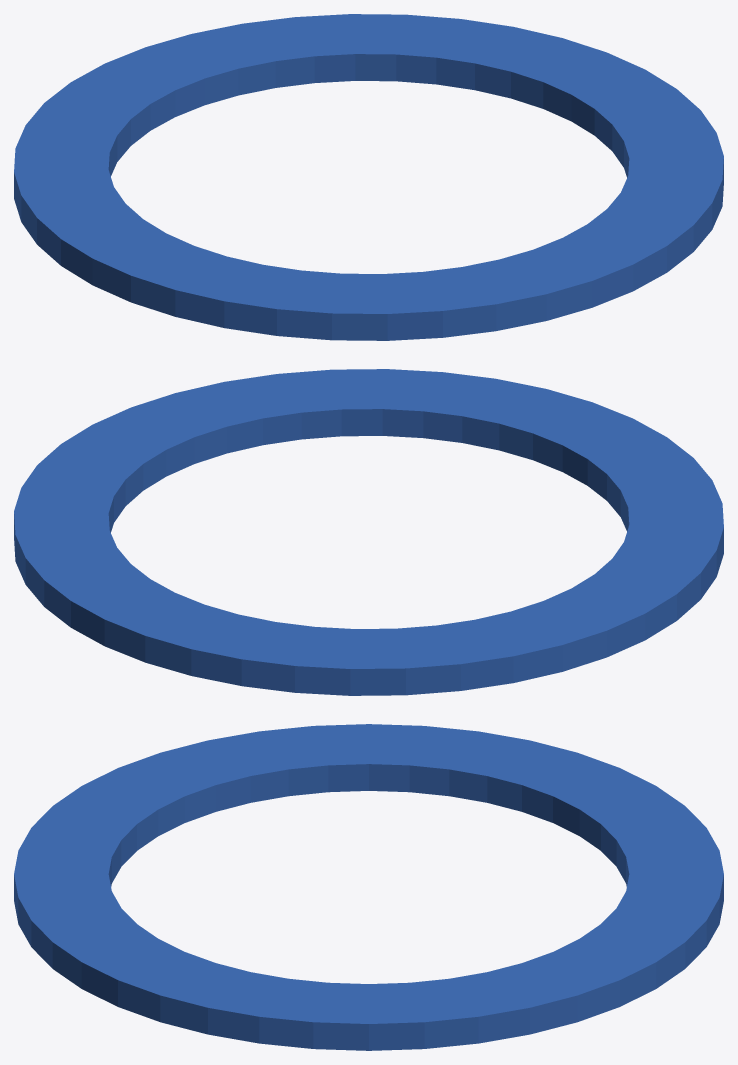
File: circle_blue.glb
3 views of the same model, one above another, from view 1: azimuth 30°, elevation 25°; view 2: azimuth 150°, elevation 25°; view 3: azimuth 270°, elevation 25° (orthographic).
Visible parts, largest first — view 1: circle_blue; view 2: circle_blue; view 3: circle_blue.
Boxes of the visible parts, <box> form: circle_blue: <box>14,14,723,340</box>; circle_blue: <box>14,369,723,695</box>; circle_blue: <box>14,724,723,1050</box>.
Size of the model in its own units: 1.2 by 0.05 by 1.2.
Materials: 1 (1 with a texture image).
